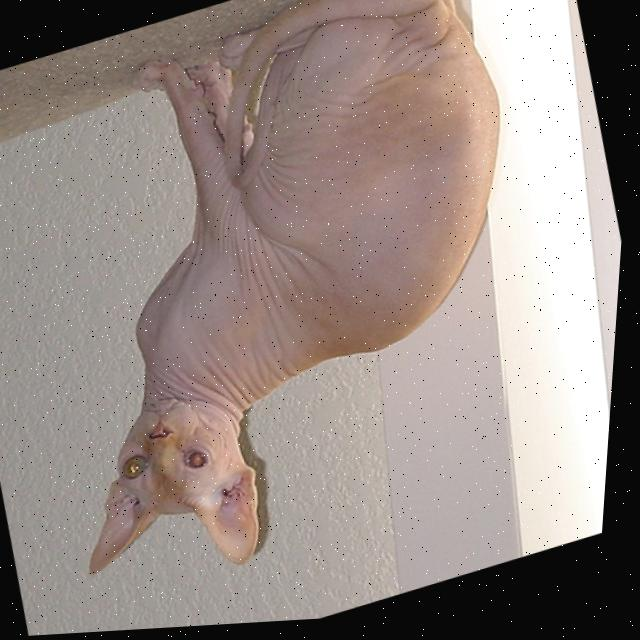Sphynx: (0, 0, 607, 624)
